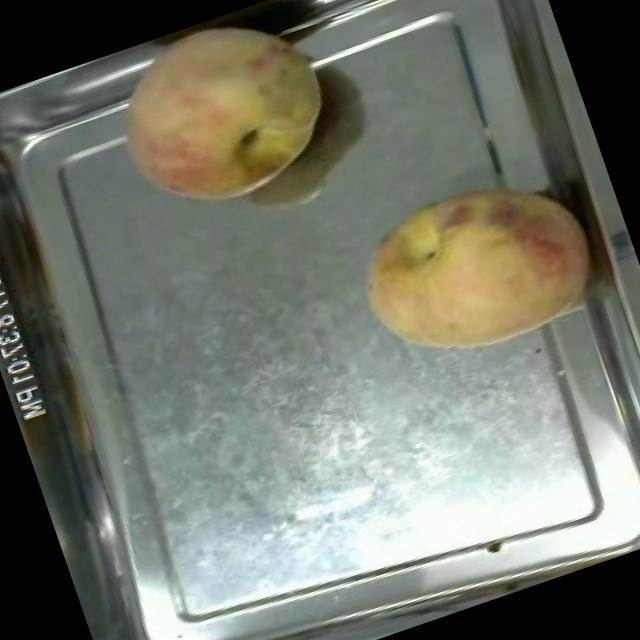Fruit: (332, 146, 622, 394), (82, 0, 357, 241)
